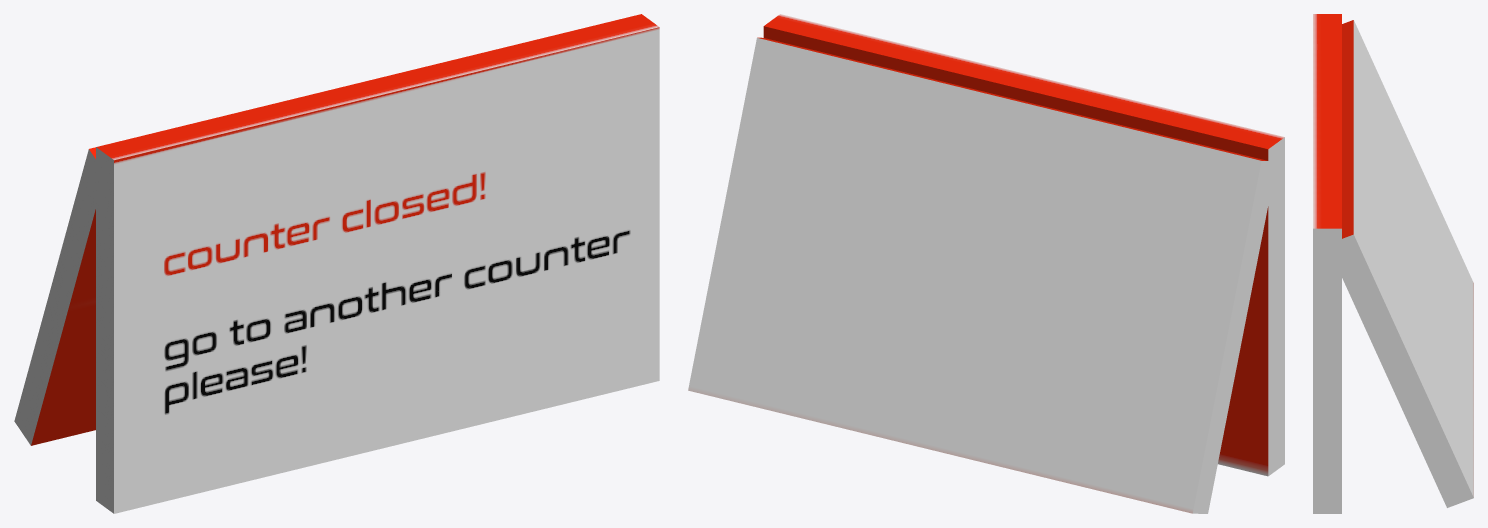
Rendered from AnotherCounter.fbx.
The picture shows the model from 3 angles, left to right: view 1: azimuth 30°, elevation 25°; view 2: azimuth 150°, elevation 25°; view 3: azimuth 270°, elevation 25°; orthographic projection. The views are drawn at different scales.
Visible parts, largest first — view 1: Cube; view 2: Cube; view 3: Cube.
Boxes of the visible parts, x1,y1,x2,y2 form: Cube: [14, 14, 659, 513]; Cube: [688, 14, 1284, 513]; Cube: [1313, 14, 1473, 513].
Size of the model in its own units: 417 by 258 by 132.
1 material, 1 textured.
